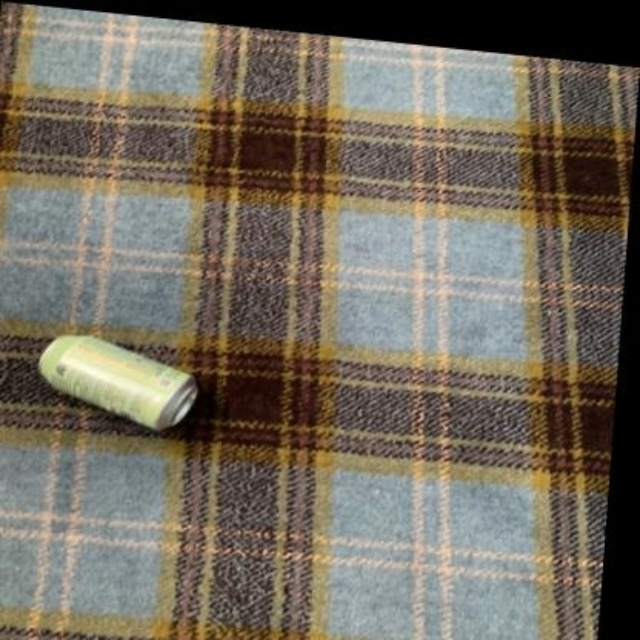trash: (38, 335, 197, 429)
